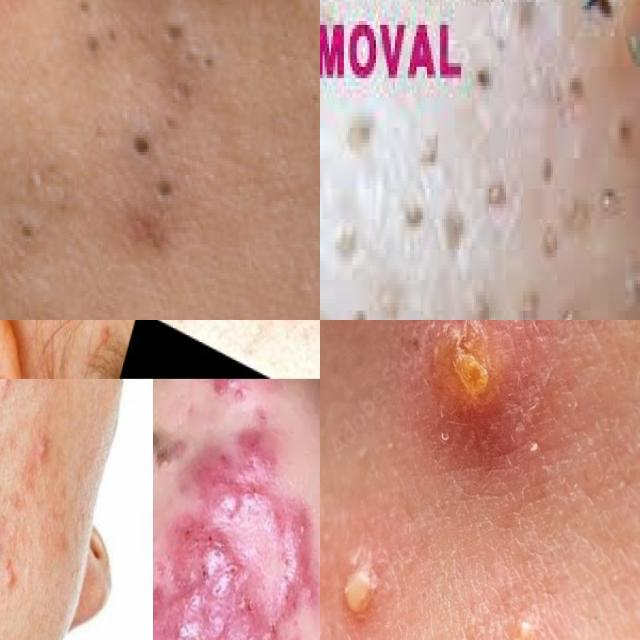comedone: (521, 0, 640, 320), (416, 112, 527, 320), (320, 108, 410, 320), (0, 437, 10, 495)
folliculitis: (77, 320, 121, 365)
pustule: (28, 414, 61, 474), (0, 506, 11, 570)
sebo-crystan-conglo: (184, 397, 290, 554), (152, 514, 266, 640), (250, 495, 320, 637), (216, 609, 282, 640), (24, 379, 70, 393), (270, 628, 274, 634)
